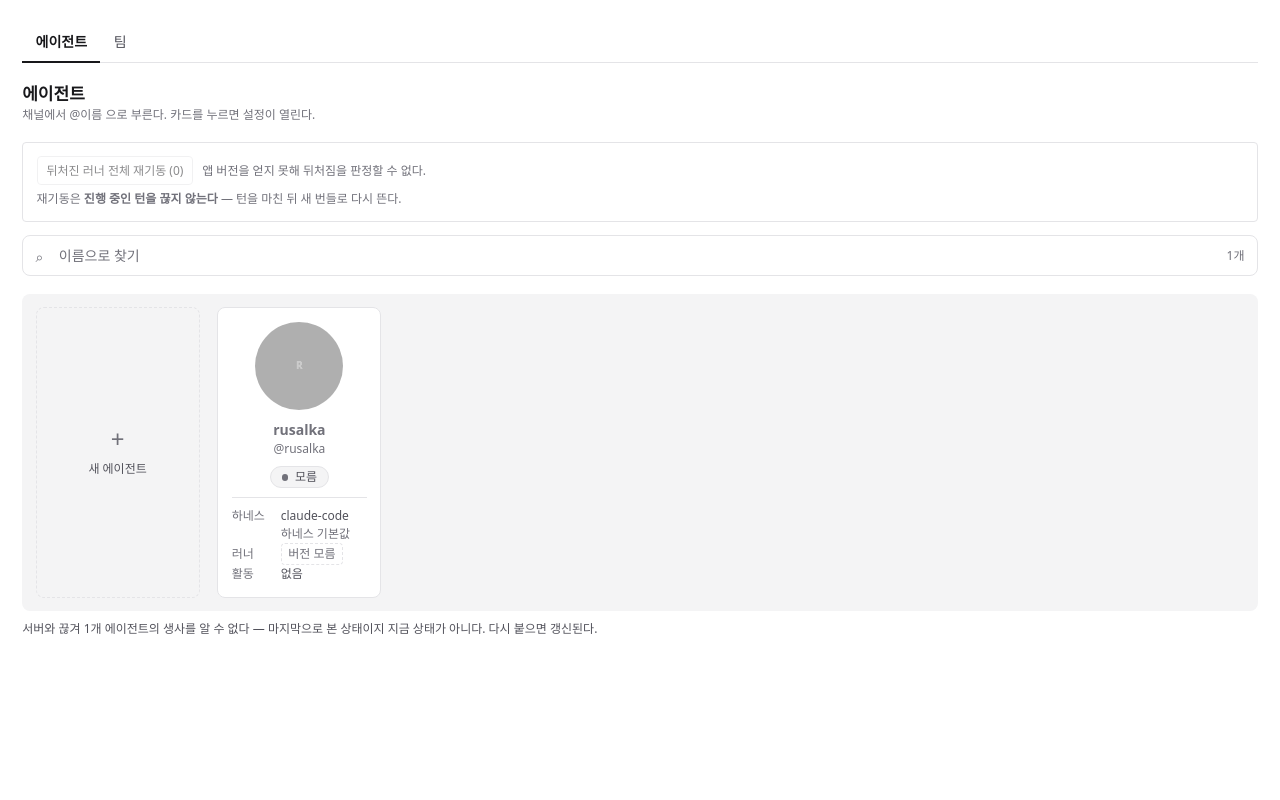
Test case: #251 비활성화 컨트롤은 admin 에게만 보인다 › admin 이면 컨트롤이 보인다
The width and height of the screenshot is (1280, 800).
Click the button with test id "agent-card-rusalka". click: (299, 390)
box: [232,322,367,458]
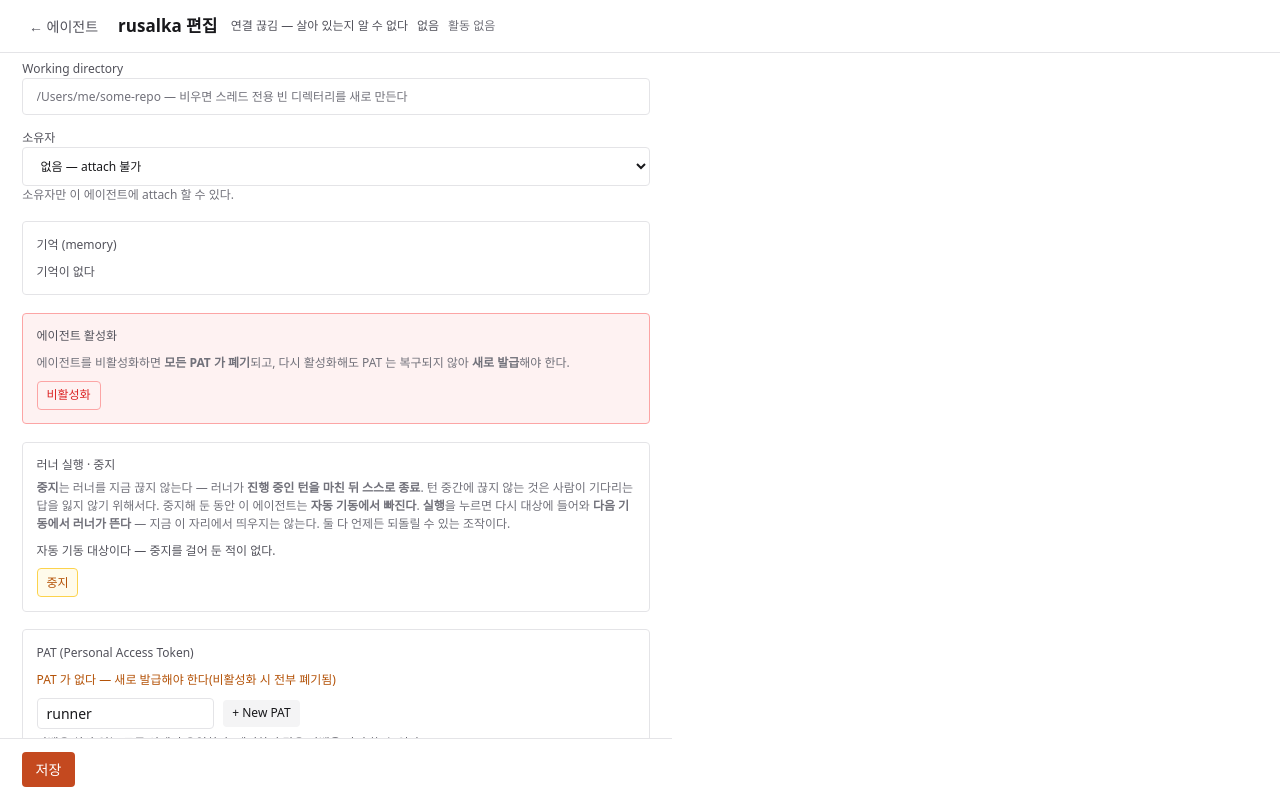
Result: the button with aria-label "에이전트 비활성화" is shown at [37,381,101,410]
